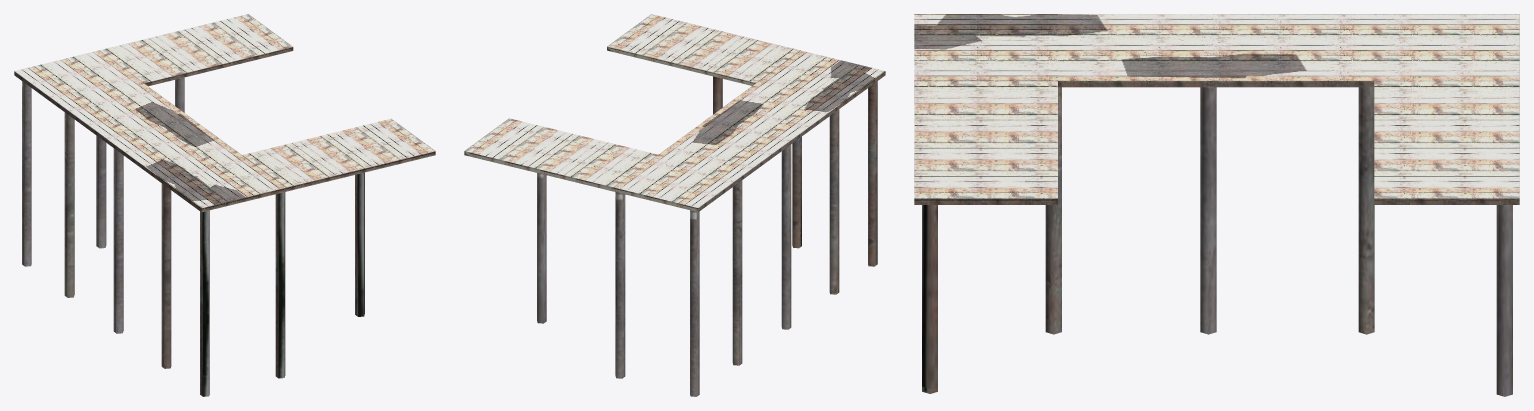
File: Pier.fbx
3 renders of one model, left to right at view 1: azimuth 30°, elevation 25°; view 2: azimuth 150°, elevation 25°; view 3: azimuth 270°, elevation 25°, orthographic. The views are drawn at different scales.
Visible parts, largest first — view 1: Gom_Pier1_00; view 2: Gom_Pier1_00; view 3: Gom_Pier1_00.
Boxes of the visible parts, left/top/right/bottom form: Gom_Pier1_00: left=14, top=14, right=435, bottom=396; Gom_Pier1_00: left=464, top=14, right=885, bottom=396; Gom_Pier1_00: left=914, top=14, right=1519, bottom=396.
Bounding box in the file's own units: 10.2 × 8 × 14.13.
